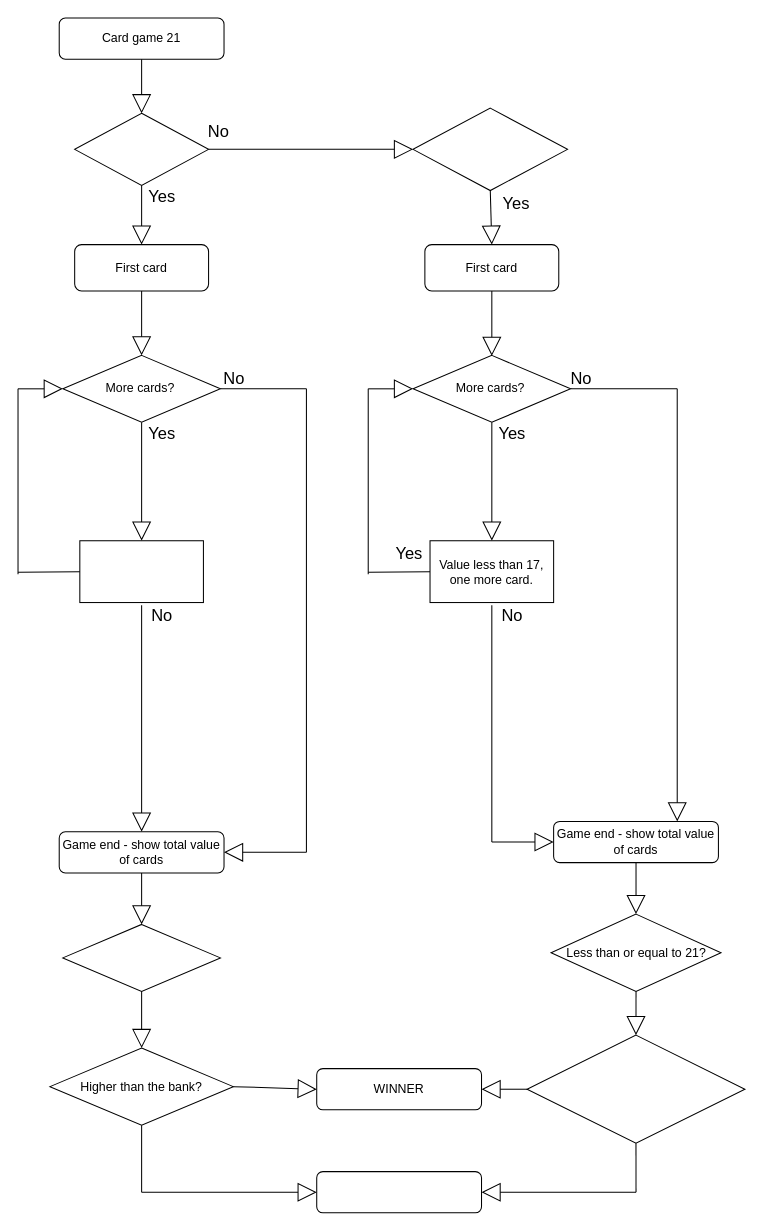
Image size: 763x1231. Some labels were removed from this diagram. Each missing label, with the centre of its shape:
Bank's game?: the point at 490,149
Higher than or equal to the player?: the point at 635,1088
Less than 21?: the point at 141,957
Loser: the point at 399,1192
Player's game?: the point at 141,148
Value less than 21?: the point at 141,571
